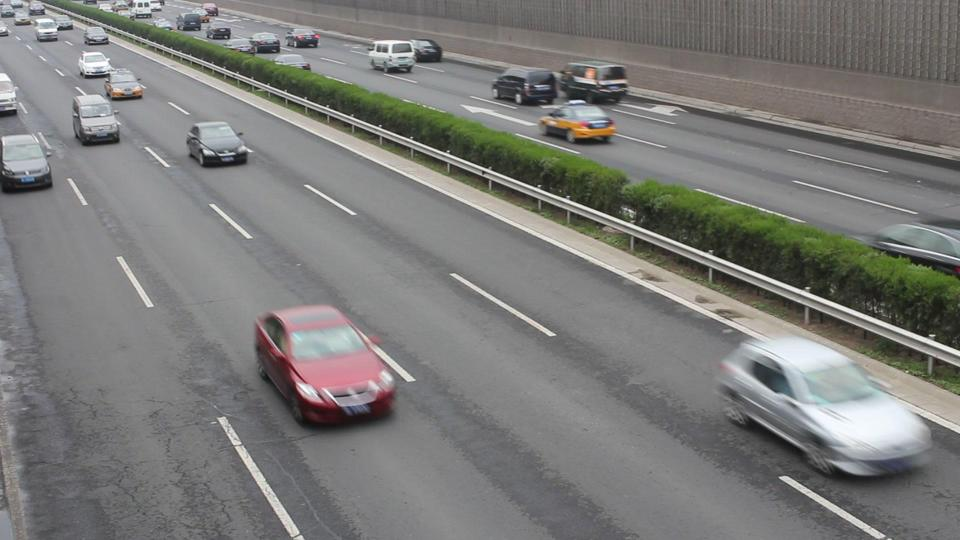car: (714, 334, 934, 480), (253, 304, 408, 427), (872, 222, 960, 278), (0, 132, 55, 193), (537, 103, 618, 143), (186, 121, 252, 167), (492, 67, 560, 105), (71, 93, 121, 144), (103, 71, 146, 100), (77, 50, 113, 78), (408, 38, 443, 62), (0, 71, 19, 115), (251, 32, 281, 55), (285, 29, 321, 48), (278, 55, 310, 75), (223, 35, 248, 57), (82, 26, 110, 45), (207, 19, 230, 39), (200, 1, 222, 17)
truck: (557, 60, 629, 104), (368, 40, 417, 73), (33, 17, 60, 42), (175, 12, 206, 31), (129, 0, 157, 19)
